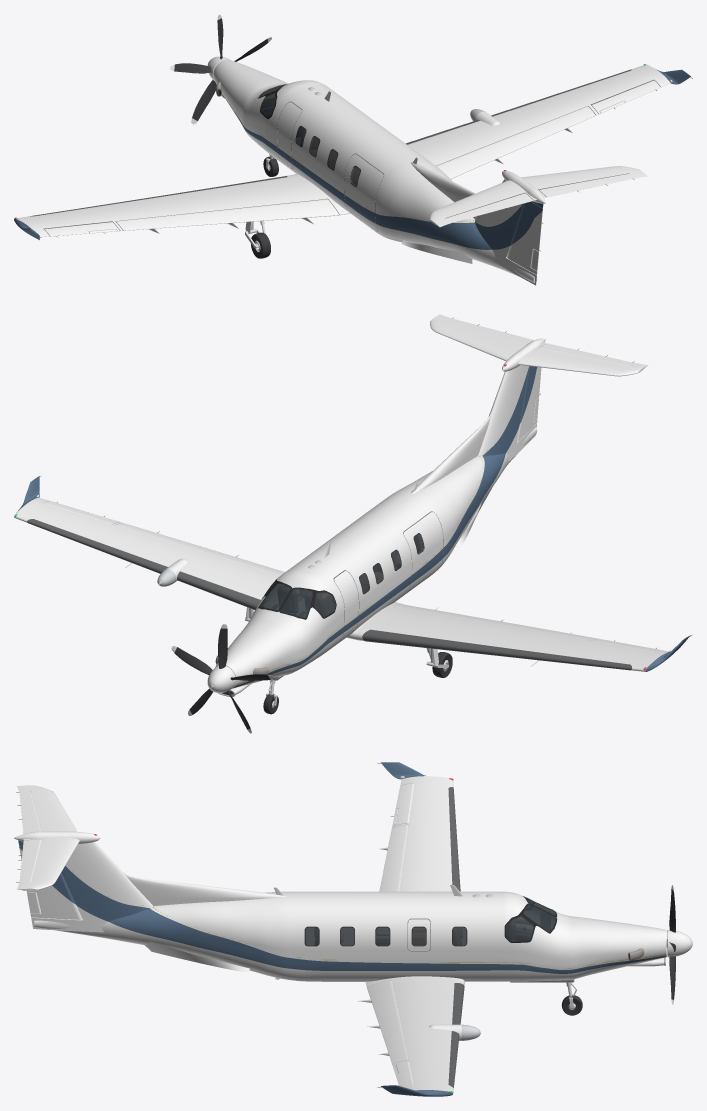
The picture shows the model from 3 angles, top to bottom: view 1: azimuth 30°, elevation 25°; view 2: azimuth 150°, elevation 25°; view 3: azimuth 270°, elevation 25°; orthographic projection.
Parts seen in each view (by area): view 1: fus_center#3:geo, wing_L#0:geo, wing_R#0:geo, flap_L#0:geo, stabilizer#0:geo, fus_aft#3:geo, flap_R#0:geo, cowl_upper#0:geo, fus_aft#1:geo, door_cargo#2:geo, fus_fwd#4:geo, rudder#2:geo (+15 smaller); view 2: fus_center#3:geo, wing_L#0:geo, wing_R#0:geo, stabilizer#0:geo, fus_fwd#4:geo, cowl_upper#0:geo, wing_L#1:geo, wing_R#1:geo, fin#2:geo, fus_aft#3:geo, door_cargo#2:geo, dorsal_fin#2:geo (+8 smaller); view 3: fus_center#3:geo, wing_R#0:geo, wing_L#0:geo, fus_aft#3:geo, fus_fwd#4:geo, fin#2:geo, stabilizer#0:geo, cowl_upper#0:geo, fus_aft#1:geo, fus_center#1:geo, dorsal_fin#2:geo, flap_R#0:geo (+15 smaller).
Part boxes in pixels (box(x1,y1,x2,y2)): fus_center#3:geo: box(271, 83, 452, 240); wing_L#0:geo: box(16, 174, 349, 237); wing_R#0:geo: box(407, 64, 670, 165); flap_L#0:geo: box(115, 199, 339, 230); stabilizer#0:geo: box(430, 166, 647, 227); fus_aft#3:geo: box(400, 178, 534, 282); flap_R#0:geo: box(436, 106, 595, 178); cowl_upper#0:geo: box(213, 59, 288, 112); fus_aft#1:geo: box(400, 217, 491, 249); door_cargo#2:geo: box(344, 154, 383, 230); fus_fwd#4:geo: box(243, 80, 325, 158); rudder#2:geo: box(507, 211, 542, 274); fus_center#3:geo: box(272, 480, 461, 645); wing_L#0:geo: box(346, 602, 669, 671); wing_R#0:geo: box(14, 497, 279, 599); stabilizer#0:geo: box(430, 314, 647, 376); fus_fwd#4:geo: box(248, 570, 338, 671); cowl_upper#0:geo: box(215, 619, 301, 676); wing_L#1:geo: box(362, 629, 631, 670); wing_R#1:geo: box(27, 519, 260, 609); fin#2:geo: box(478, 365, 536, 461); fus_aft#3:geo: box(414, 427, 537, 538); door_cargo#2:geo: box(404, 512, 443, 588); dorsal_fin#2:geo: box(410, 409, 492, 493); fus_center#3:geo: box(247, 891, 502, 979); wing_R#0:geo: box(365, 976, 464, 1093); wing_L#0:geo: box(392, 776, 453, 891); fus_aft#3:geo: box(34, 900, 246, 967); fus_fwd#4:geo: box(503, 891, 569, 980); fin#2:geo: box(31, 842, 153, 932); stabilizer#0:geo: box(17, 785, 79, 890); cowl_upper#0:geo: box(570, 916, 666, 956); fus_aft#1:geo: box(109, 908, 246, 958); fus_center#1:geo: box(247, 945, 502, 970); dorsal_fin#2:geo: box(121, 870, 286, 906); flap_R#0:geo: box(367, 980, 408, 1062).
Bounding box in the file's own units: 16.28 × 4.27 × 14.4.
